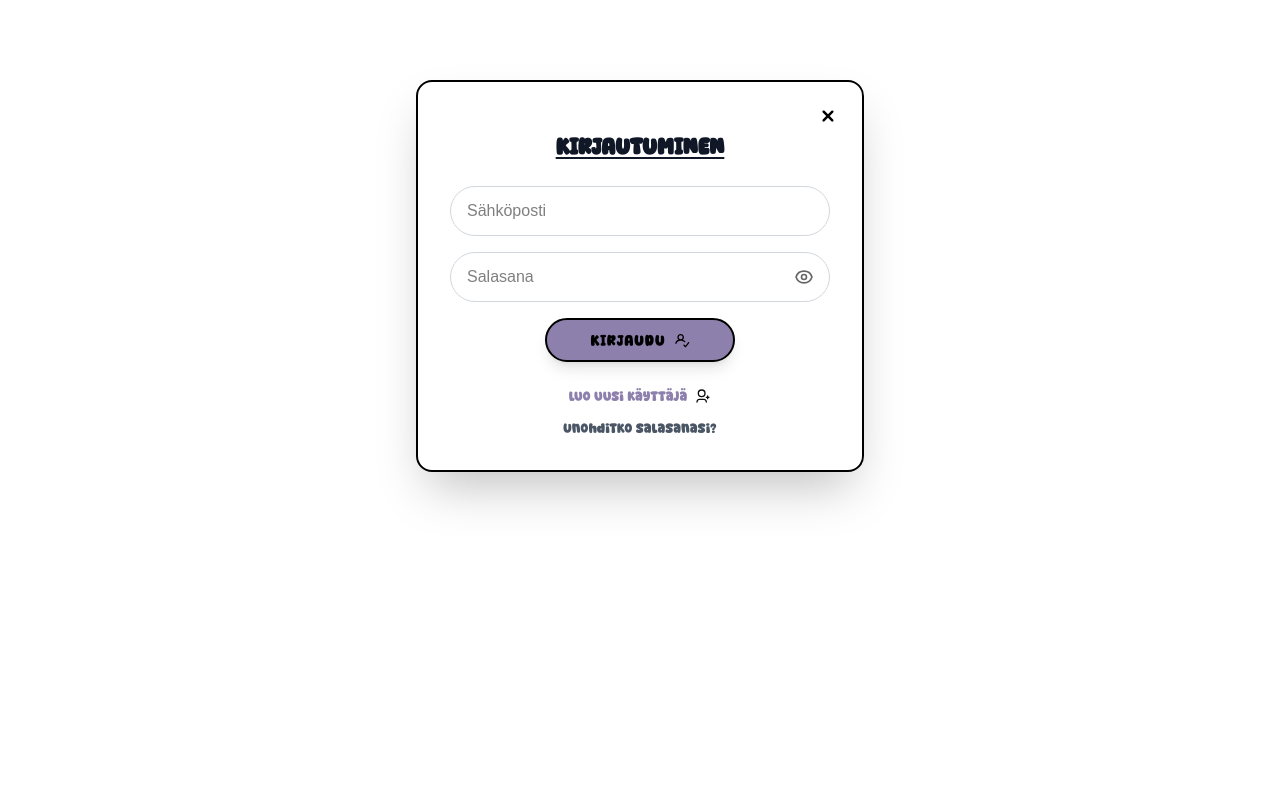
Test case: AuthModal › switches to register view when 'Luo uusi käyttäjä' is clicked
Click the button "Luo uusi käyttäjä" at point(640, 396), box [569,386,711,406]
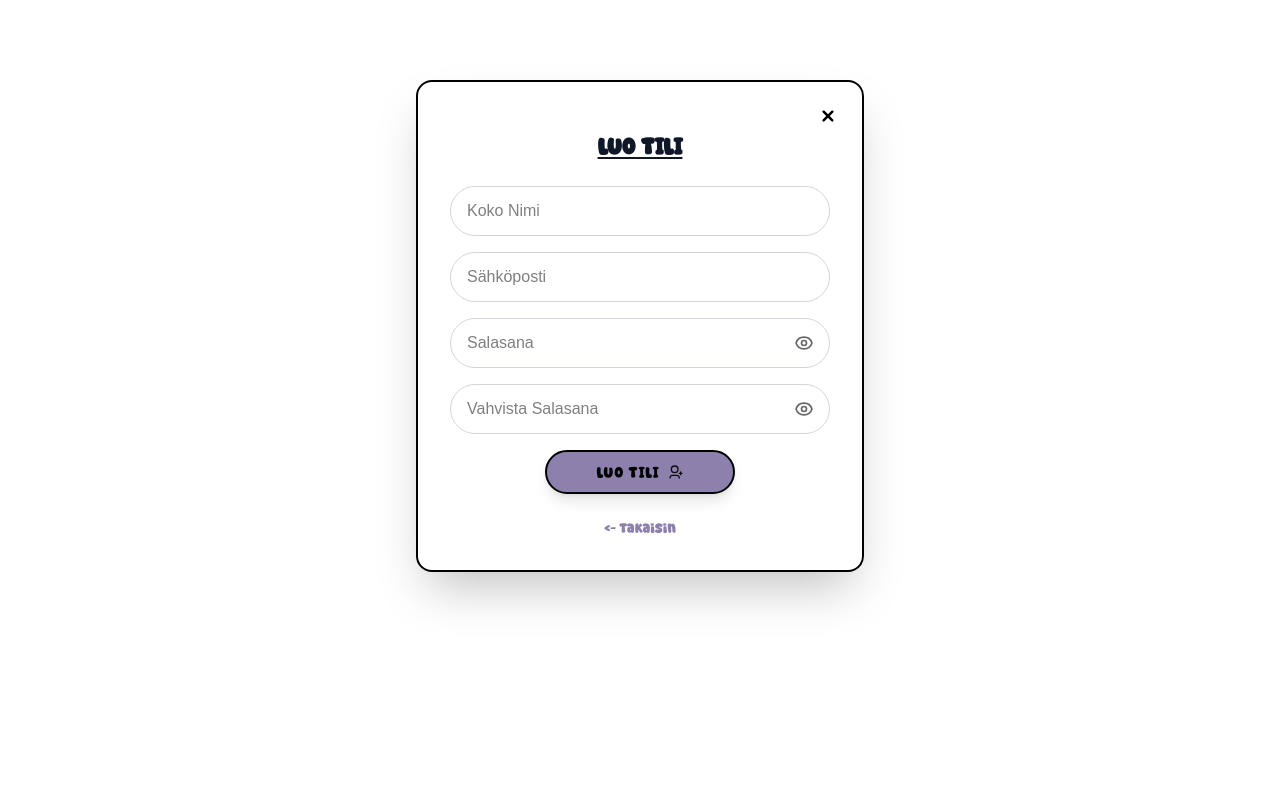
Expected: the heading "LUO TILI" is shown, [598,130,682,161]
Expected: the field with placeholder "Koko Nimi" is shown, [450,186,830,236]
Expected: the password field with placeholder "Vahvista Salasana" is shown, [450,384,830,434]
